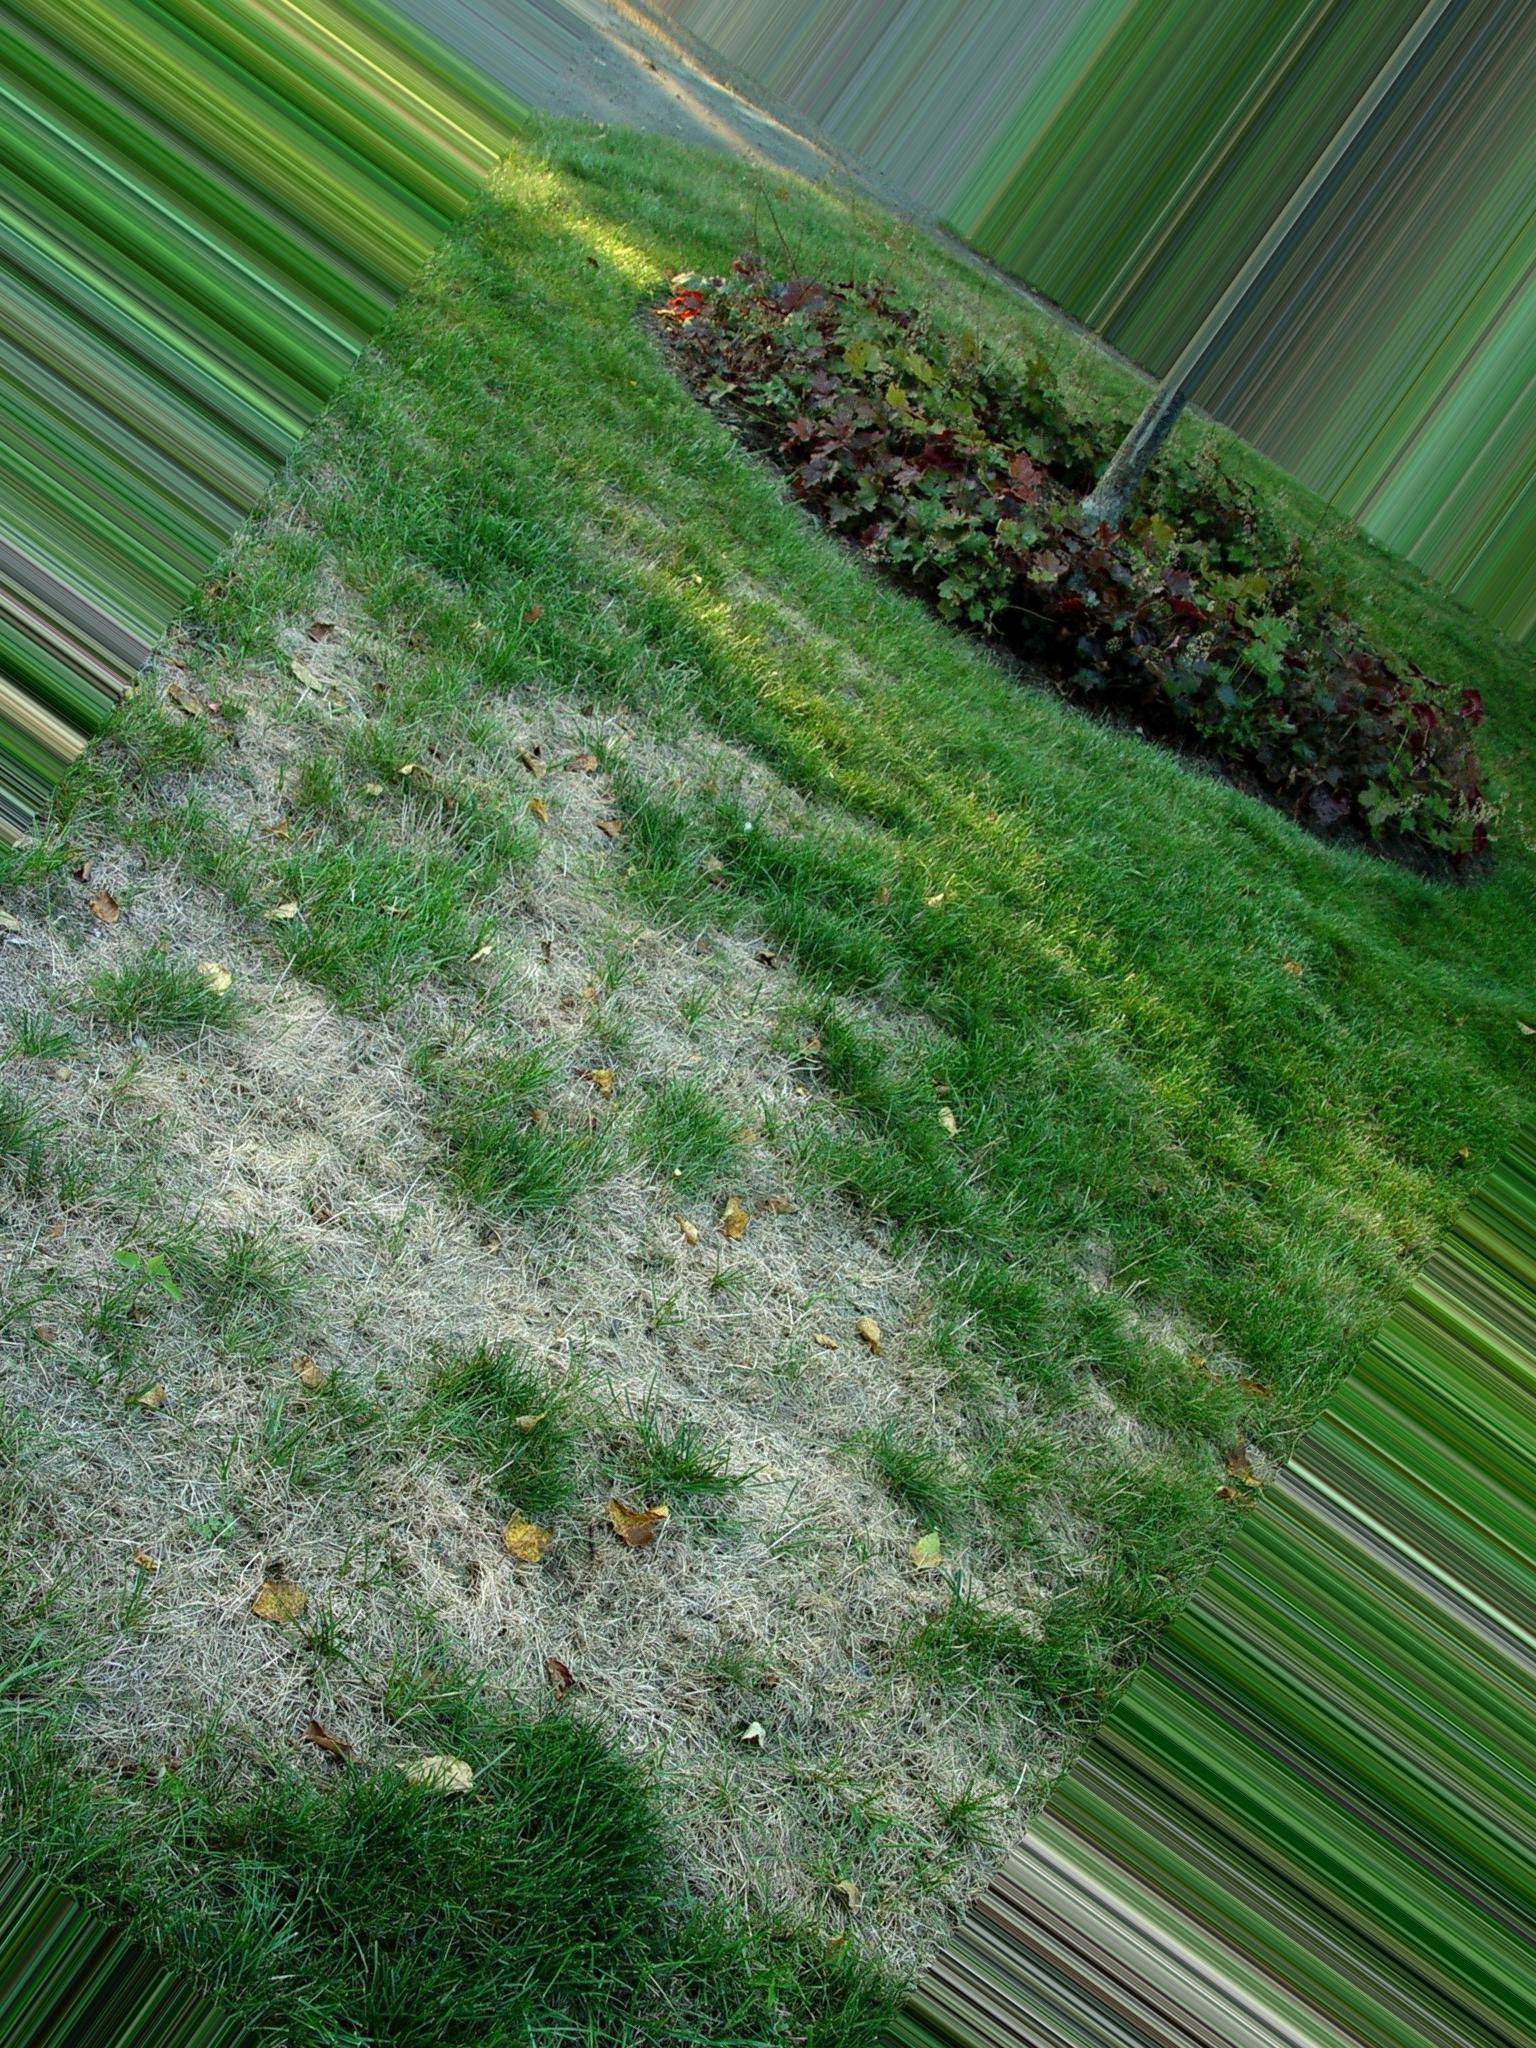patch: (186, 1034, 878, 1380), (302, 660, 850, 971), (286, 1438, 820, 1750), (18, 1417, 232, 1719), (874, 1466, 1154, 1685), (23, 1034, 145, 1332)
